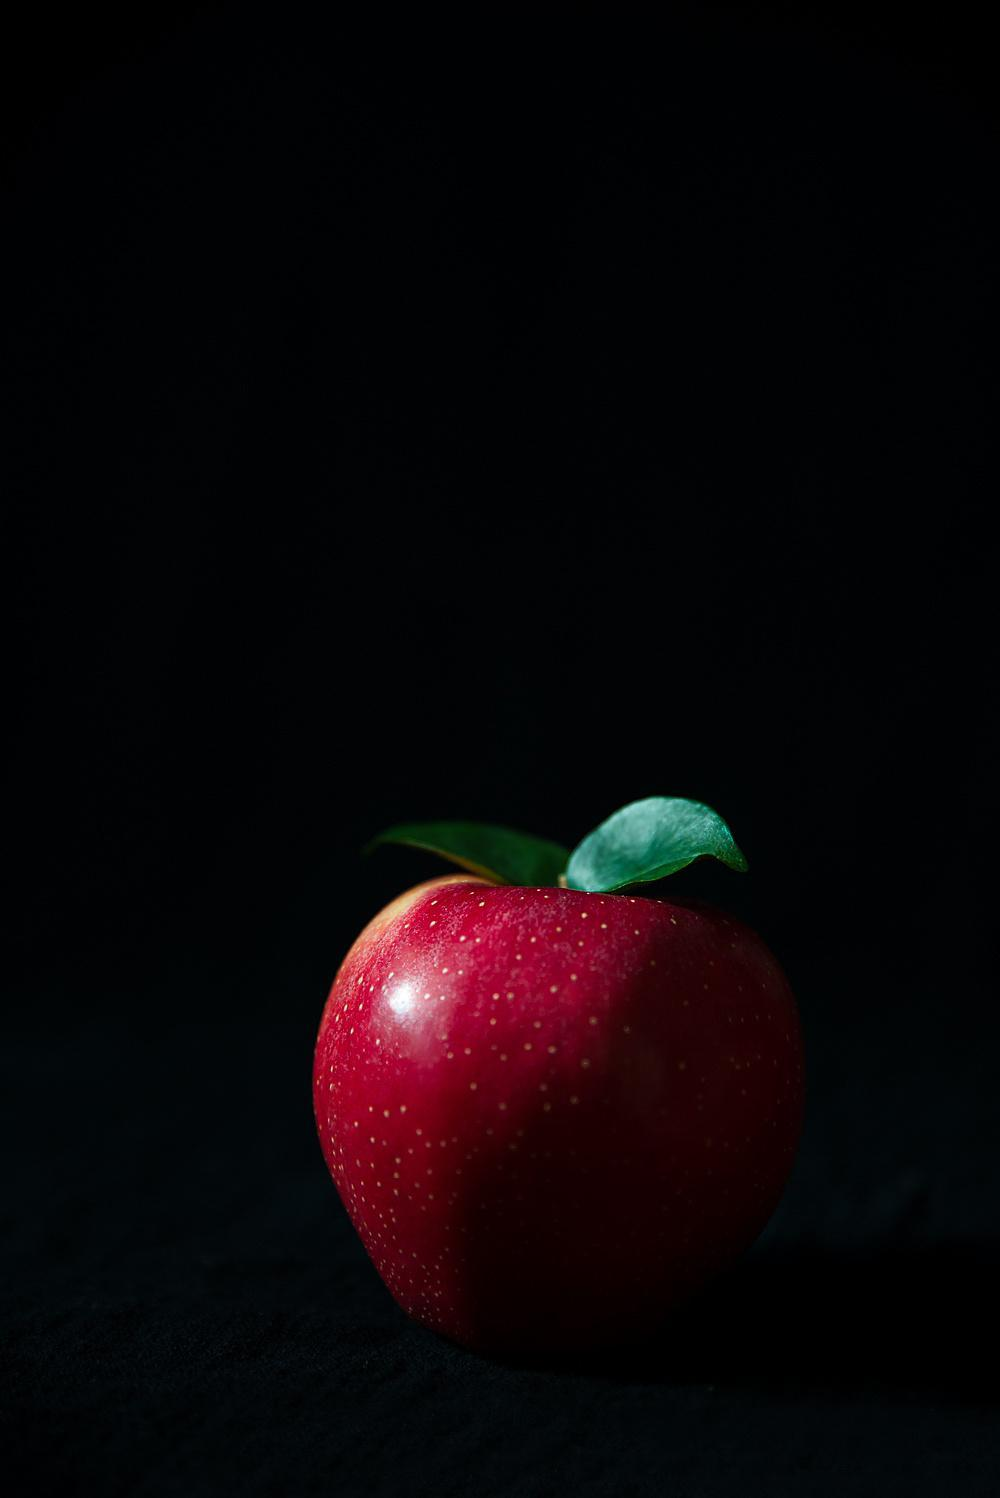apple: (314, 861, 802, 1375)
